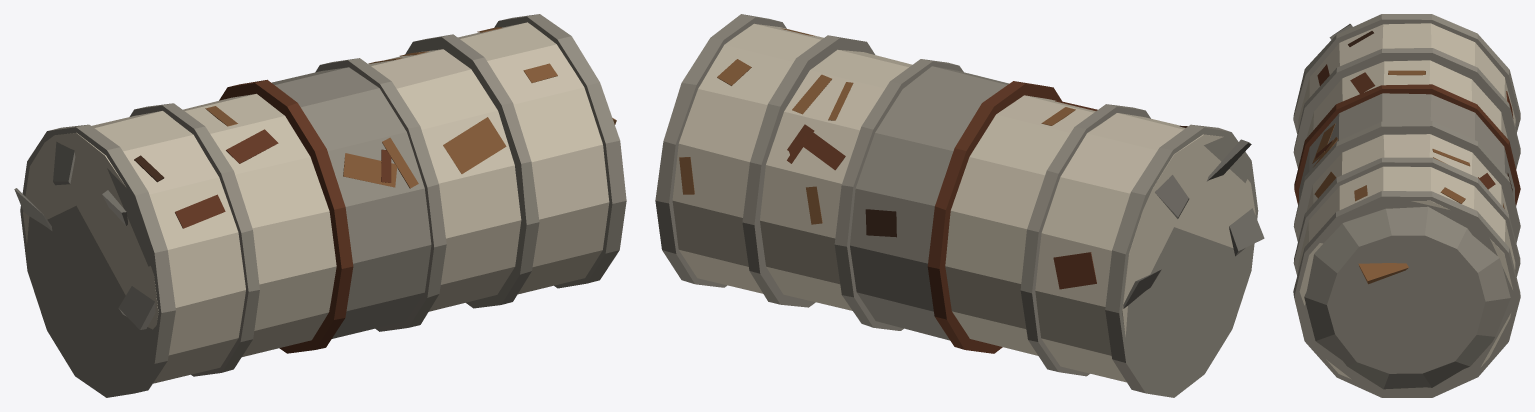
File: hull_drum.glb
3 views of the same model, side by side, from view 1: azimuth 30°, elevation 25°; view 2: azimuth 150°, elevation 25°; view 3: azimuth 270°, elevation 25° (orthographic). The views are drawn at different scales.
Parts seen in each view (by area): view 1: hull_drum; view 2: hull_drum; view 3: hull_drum.
Boxes of the visible parts, bbox=[...] form: hull_drum: bbox=[14, 14, 626, 397]; hull_drum: bbox=[655, 14, 1264, 397]; hull_drum: bbox=[1293, 14, 1520, 397].
Size of the model in its own units: 45.21 by 20.48 by 20.99.
